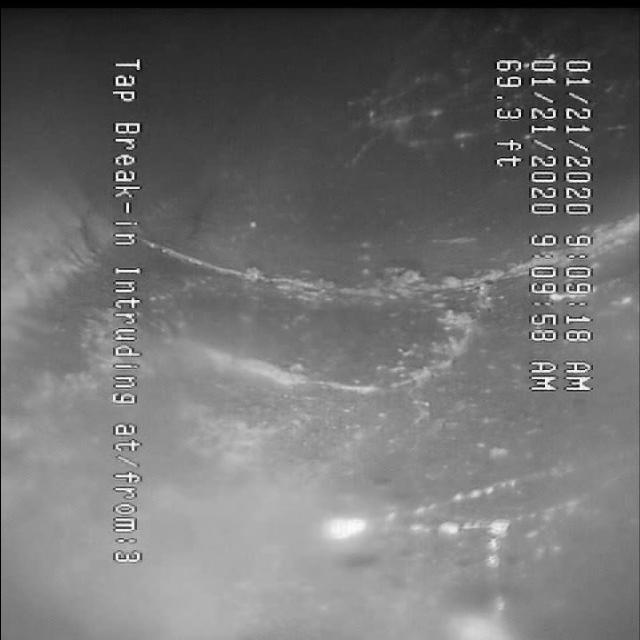Crack: (162, 214, 514, 358)
